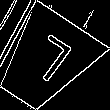L_SW: (17, 32, 74, 91)
